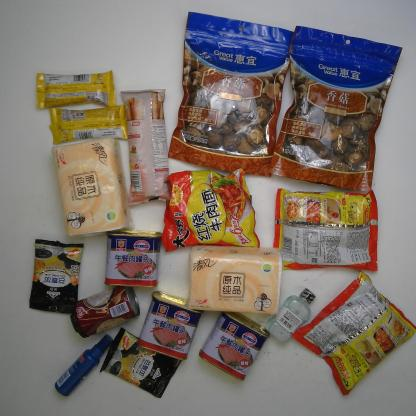Canned Food: (197, 305, 272, 382), (135, 288, 204, 360), (68, 284, 143, 343), (100, 227, 166, 288)
Chocolate: (45, 98, 129, 147), (34, 70, 119, 114)
Dessert: (119, 86, 176, 210)
Dried Food: (268, 25, 406, 194), (166, 9, 296, 178)
Instant Drink: (98, 325, 184, 402), (24, 235, 85, 316)
Instant Noodles: (290, 268, 415, 398), (267, 183, 382, 273), (158, 163, 262, 253)
Personal Hygiene: (53, 331, 114, 399), (265, 285, 315, 345)
Tissue: (48, 136, 134, 240), (183, 242, 284, 318)
